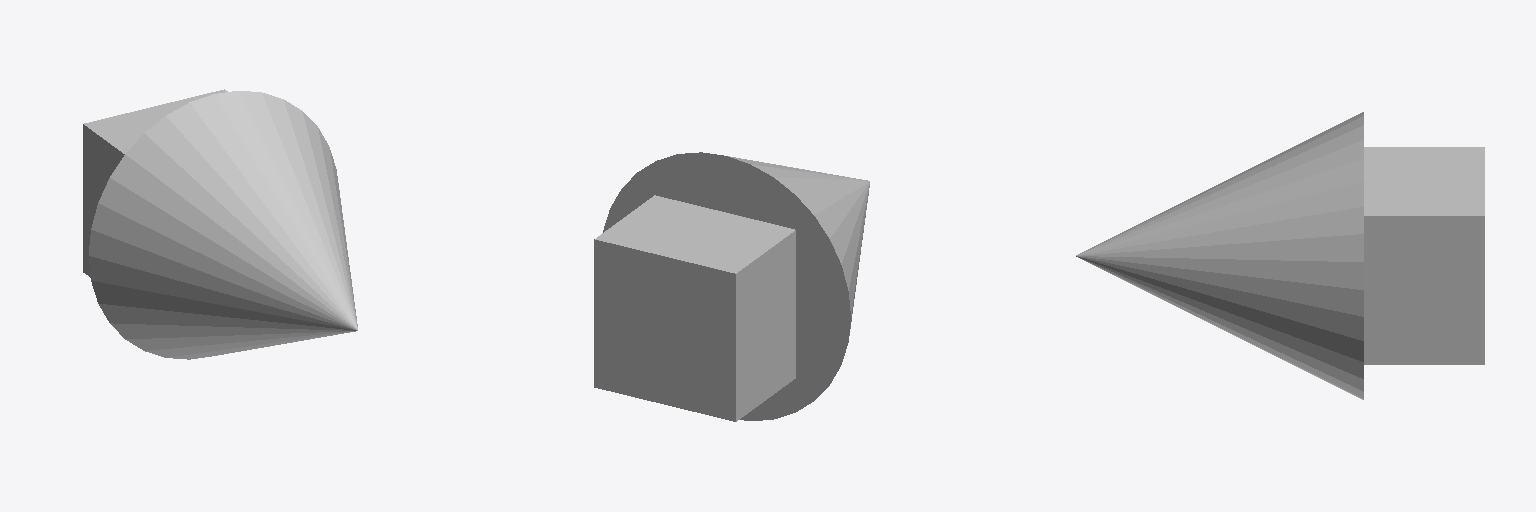
Rendered from testbuilding4.obj.
The picture shows the model from 3 angles: view 1: azimuth 30°, elevation 25°; view 2: azimuth 150°, elevation 25°; view 3: azimuth 270°, elevation 25°; orthographic projection.
Parts seen in each view (by area): view 1: Cone; view 2: Cone; view 3: Cone.
Part boxes in pixels (bbox=[...]): Cone: bbox=[83, 89, 357, 359]; Cone: bbox=[594, 152, 869, 421]; Cone: bbox=[1076, 112, 1484, 399].
Size of the model in its own units: 7.38 by 7.38 by 10.46.